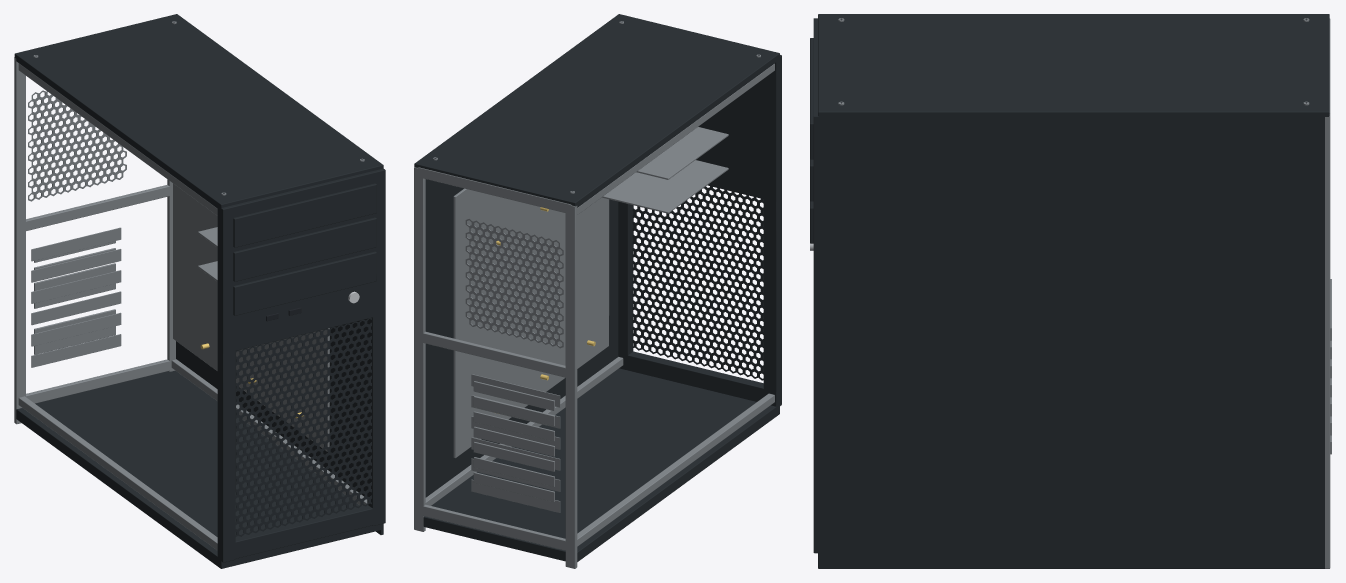
Rendered from computer-case.glb.
3 views of the same model, side by side, from view 1: azimuth 30°, elevation 25°; view 2: azimuth 150°, elevation 25°; view 3: azimuth 270°, elevation 25° (orthographic). The views are drawn at different scales.
Parts seen in each view (by area): view 1: Top, Open honeycomb ventilation (×2), Base, Drive bay front panel (×3), Upper front fascia, Motherboard tray, Front bezel side rail (×2), Rear PCI bracket (×6), Chassis rail (×3), Rear vertical frame rail (×2), Right panel, Rear frame cross member (×2) (+2 smaller); view 2: Top, Base, Open honeycomb ventilation (×2), Motherboard tray, Right panel, Rear vertical frame rail (×2), Upper front fascia, Expansion slot cover (×7), Front bezel side rail (×2), Chassis rail (×3), Rear frame cross member (×3), Drive bay shelf (×2) (+2 smaller); view 3: Right panel, Top, Base, Front bezel side rail, Upper front fascia, Rear vertical frame rail.
Part boxes in pixels (left/top/right/bottom): Top: left=14, top=14, right=383, bottom=208; Open honeycomb ventilation (×2): left=28, top=90, right=371, bottom=536; Base: left=16, top=370, right=383, bottom=568; Drive bay front panel (×3): left=233, top=183, right=376, bottom=315; Upper front fascia: left=217, top=168, right=385, bottom=353; Motherboard tray: left=173, top=183, right=329, bottom=451; Front bezel side rail (×2): left=217, top=294, right=385, bottom=562; Rear PCI bracket (×6): left=31, top=227, right=121, bottom=367; Chassis rail (×3): left=18, top=63, right=367, bottom=550; Rear vertical frame rail (×2): left=14, top=57, right=175, bottom=424; Right panel: left=176, top=319, right=383, bottom=534; Rear frame cross member (×2): left=21, top=184, right=173, bottom=403; Top: left=414, top=14, right=779, bottom=207; Base: left=423, top=368, right=779, bottom=561; Open honeycomb ventilation (×2): left=465, top=186, right=763, bottom=380; Motherboard tray: left=453, top=188, right=609, bottom=458; Right panel: left=425, top=179, right=618, bottom=497; Rear vertical frame rail (×2): left=414, top=167, right=577, bottom=568; Upper front fascia: left=696, top=55, right=781, bottom=201; Expansion slot cover (×7): left=473, top=381, right=554, bottom=501; Front bezel side rail (×2): left=618, top=178, right=781, bottom=408; Chassis rail (×3): left=425, top=63, right=774, bottom=546; Rear frame cross member (×3): left=418, top=167, right=570, bottom=551; Drive bay shelf (×2): left=602, top=127, right=728, bottom=213; Right panel: left=818, top=119, right=1324, bottom=568; Top: left=818, top=14, right=1329, bottom=119; Base: left=818, top=551, right=1324, bottom=562; Front bezel side rail: left=813, top=270, right=826, bottom=553; Upper front fascia: left=813, top=18, right=826, bottom=294; Rear vertical frame rail: left=1325, top=114, right=1330, bottom=568.
Bounding box in the file's own units: 0.2 × 0.4387 × 0.449.
Materials: 2 (2 with a texture image).
